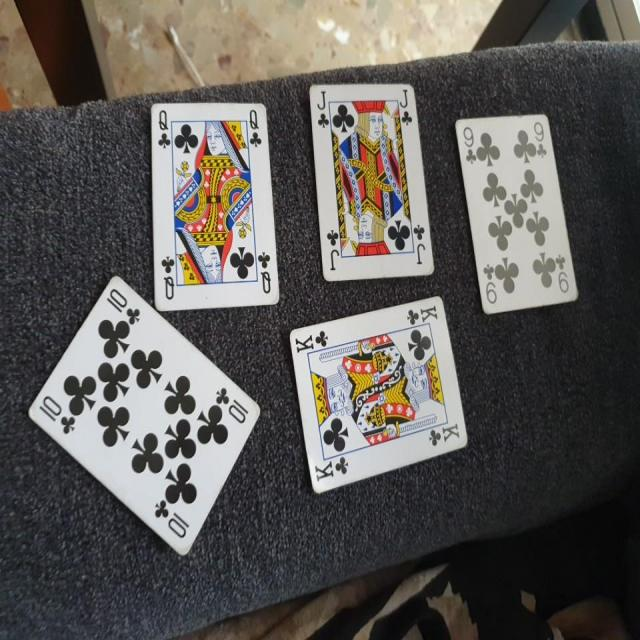10 Trefoils: (27, 275, 262, 561)
9 Trefoils: (453, 108, 580, 320)
J Trefoils: (308, 81, 434, 284)
K Trefoils: (287, 294, 471, 494)
Q Trefoils: (149, 101, 281, 312)
